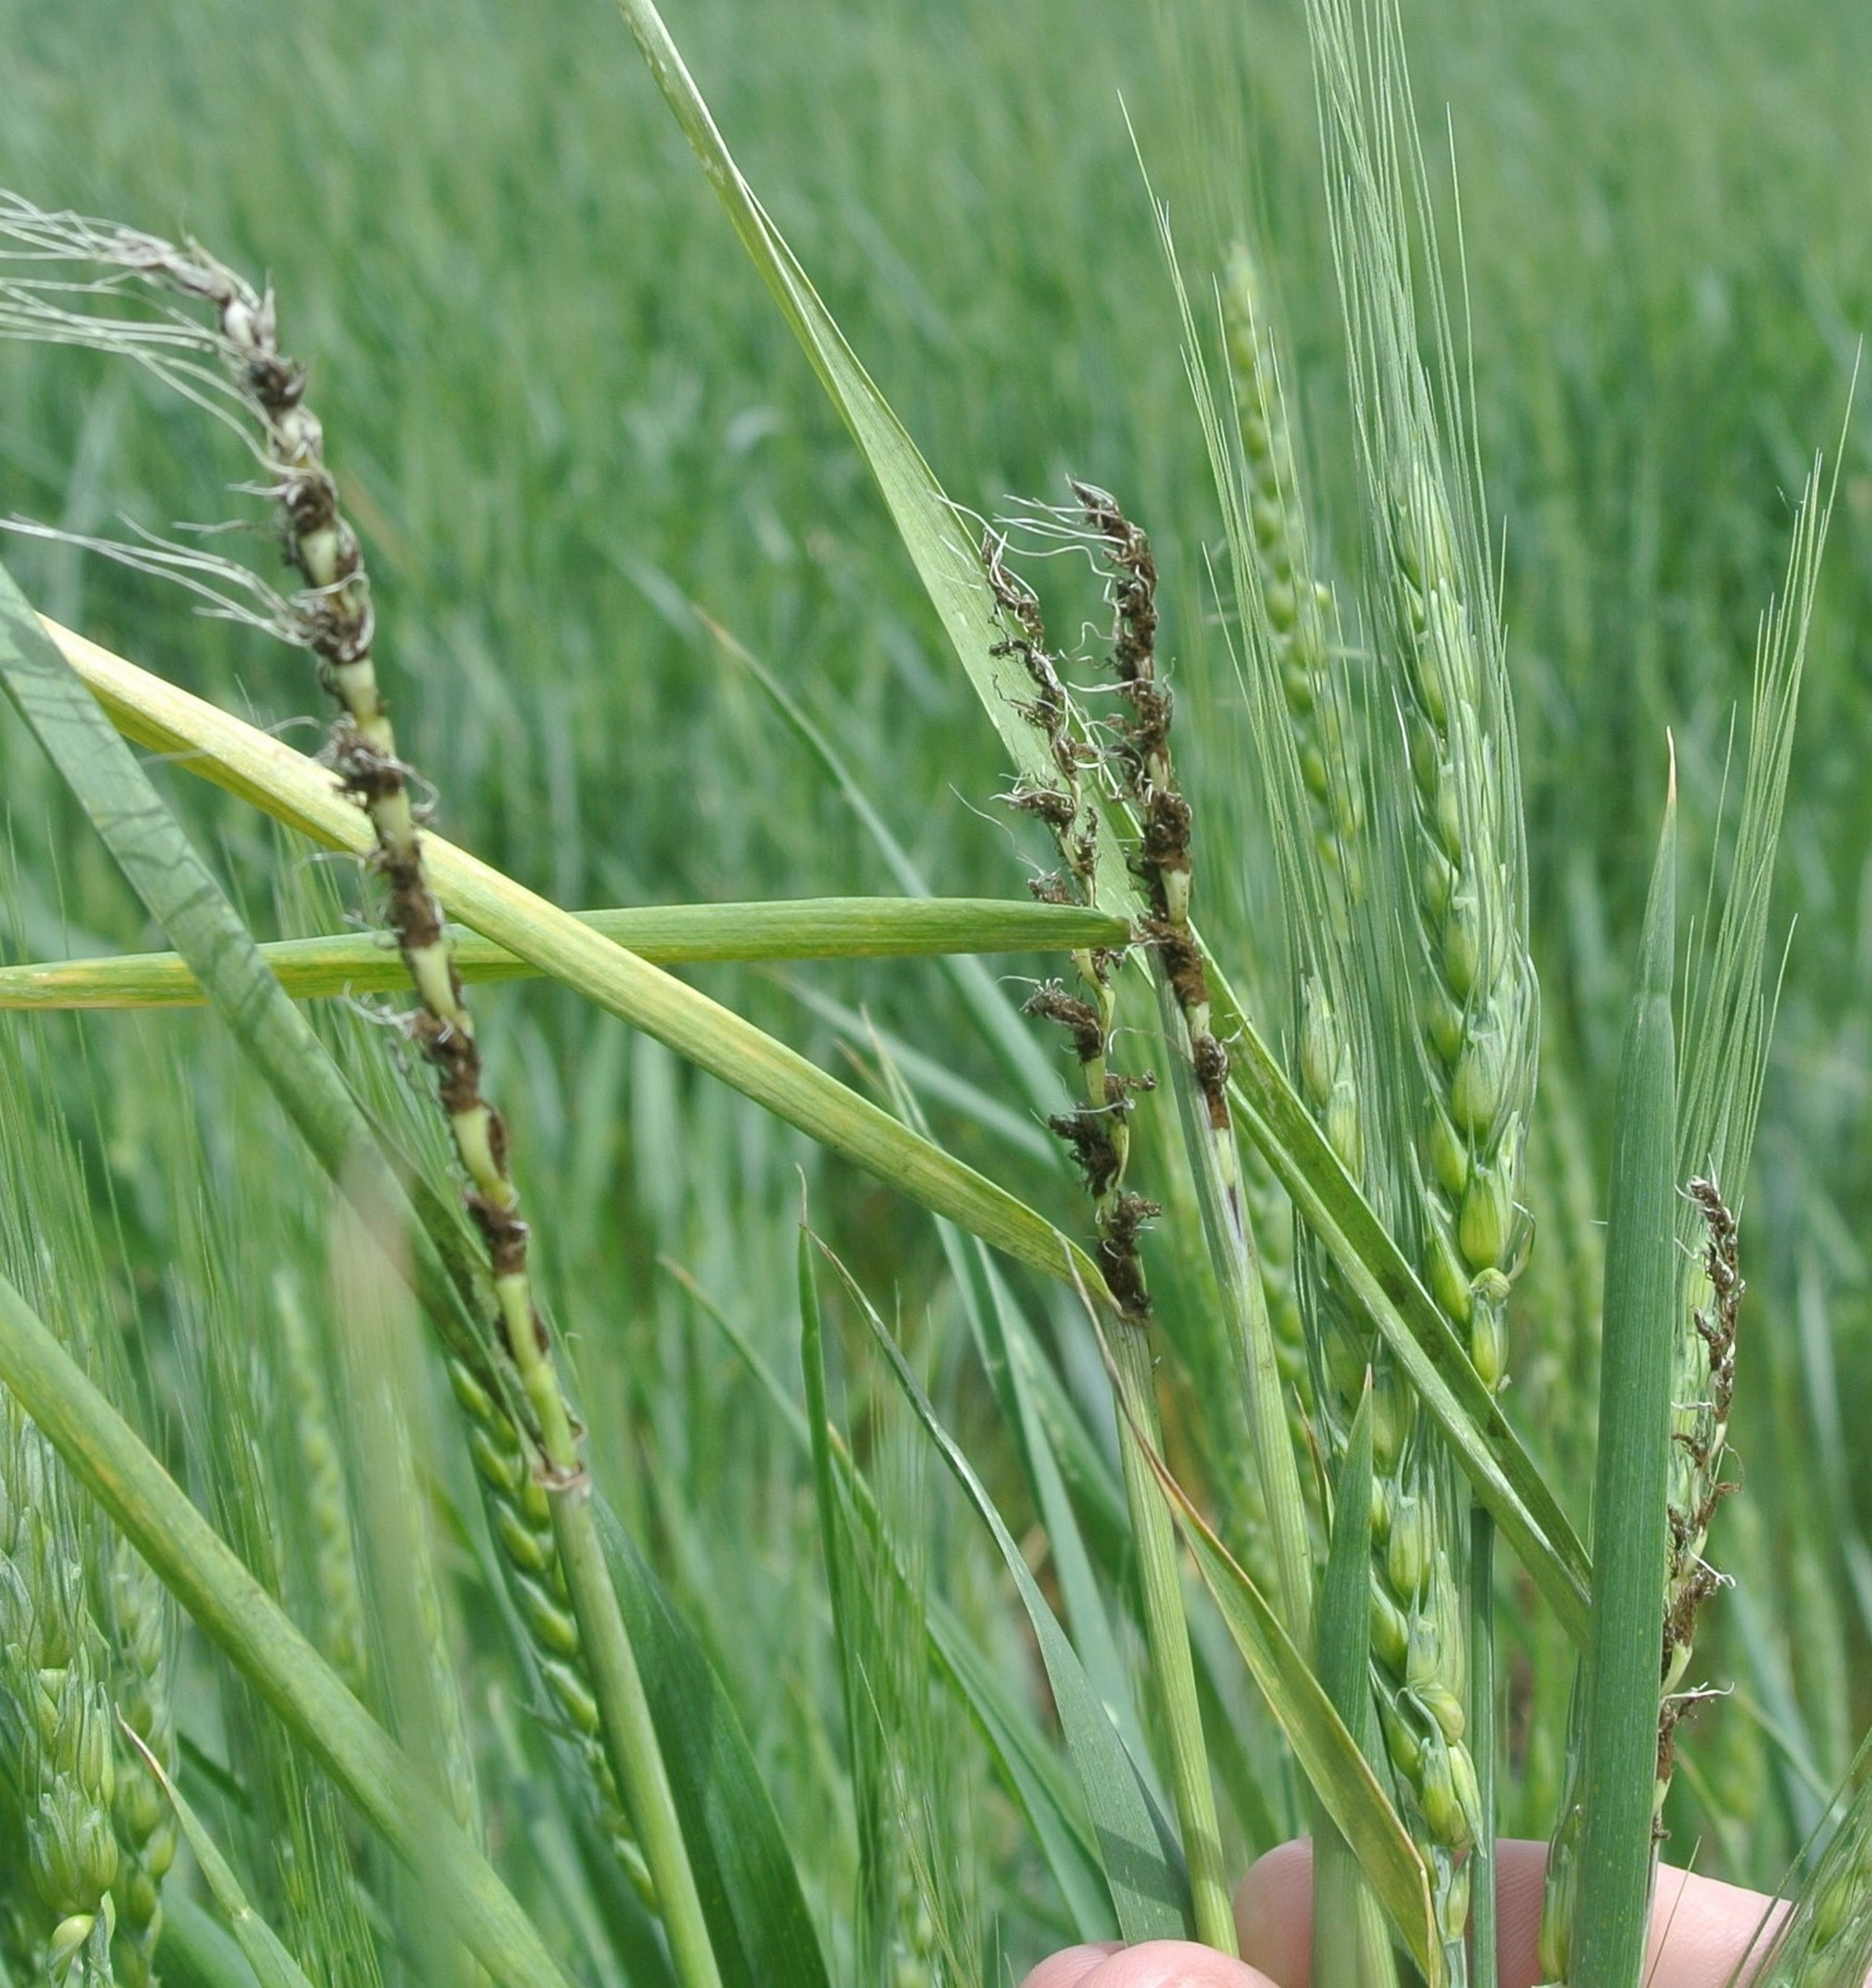Wheat Loose Smut: (901, 479, 1276, 1334)
